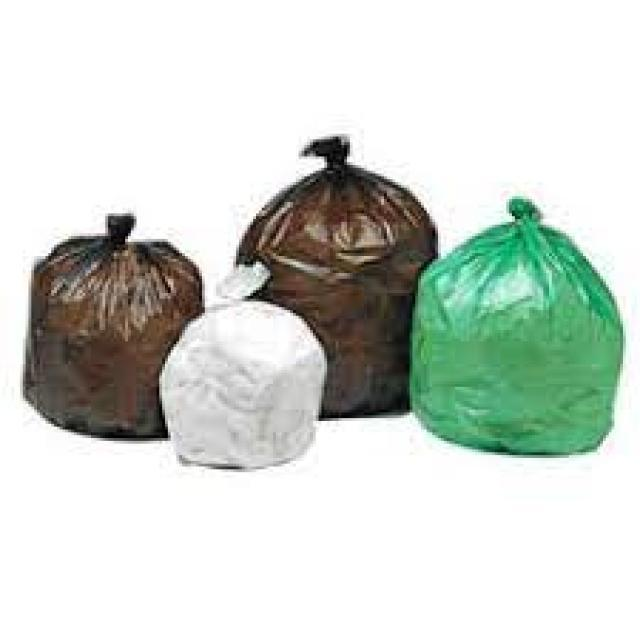Vinyl: (233, 128, 438, 421), (410, 196, 628, 458), (26, 200, 208, 450), (153, 253, 324, 475)
